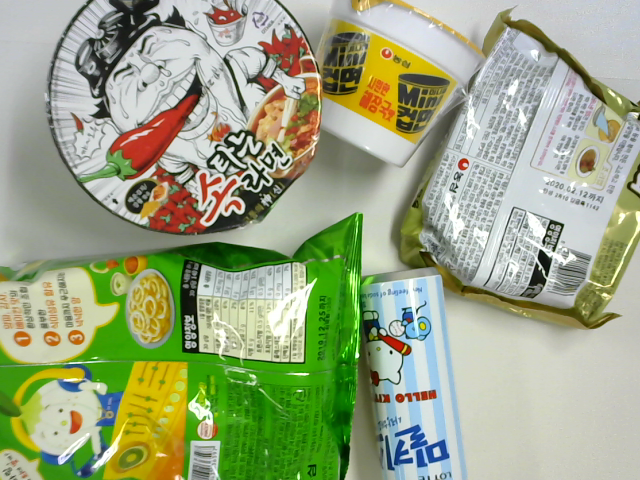HeJangsock: (40, 1, 310, 234)
Milkies_250ml: (350, 259, 481, 480)
Olive_Chapaghetti: (420, 41, 636, 292)
Oninon_Ring: (6, 239, 364, 480)
Udongmini: (277, 3, 475, 147)
